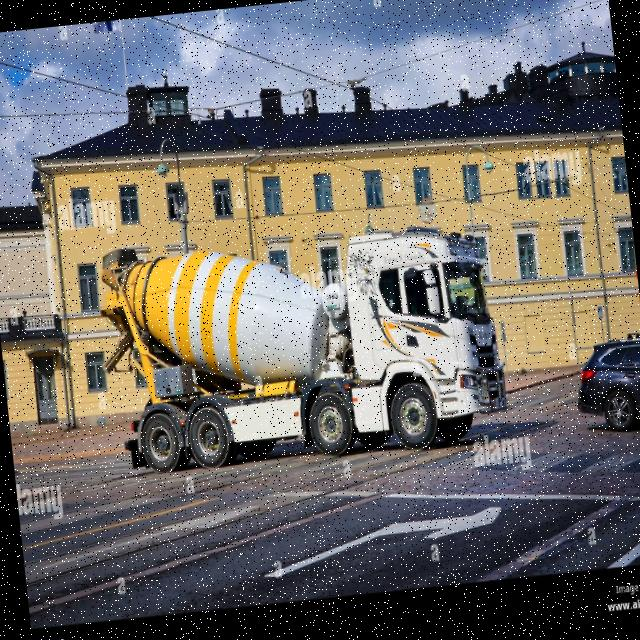Mixer Truck: (91, 209, 510, 479)
